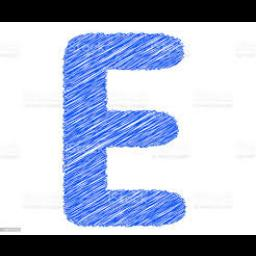e: (56, 29, 190, 227)
